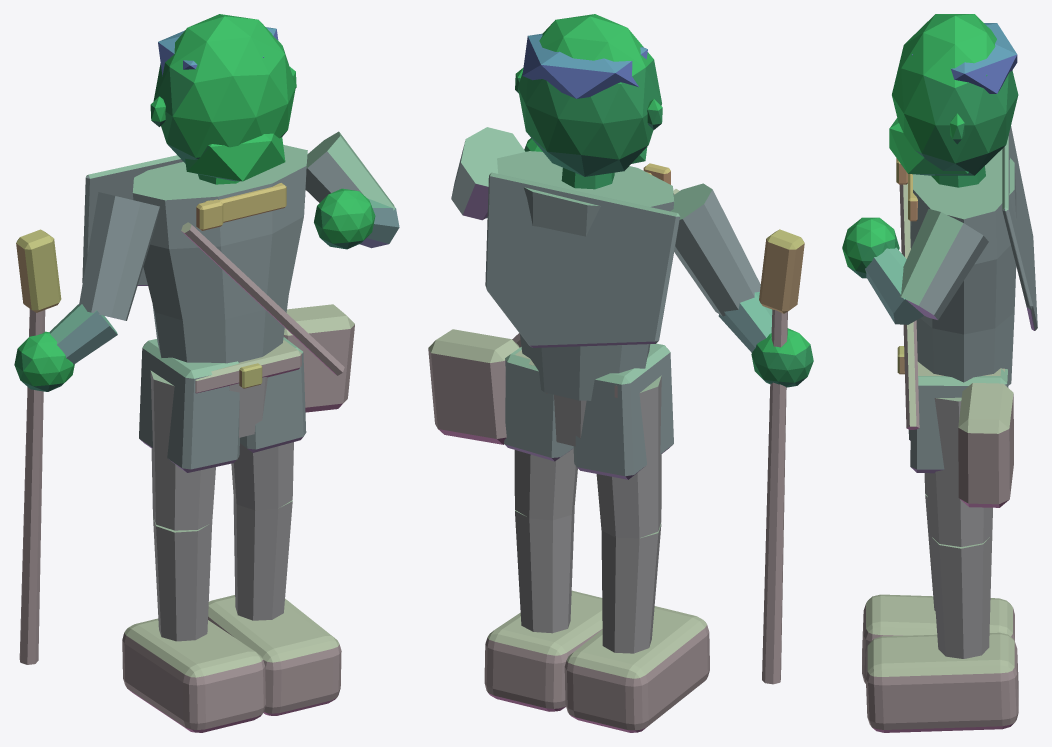
Rendered from npc_scout_react_v01.glb.
3 renders of one model, left to right at view 1: azimuth 30°, elevation 25°; view 2: azimuth 150°, elevation 25°; view 3: azimuth 270°, elevation 25°, orthographic.
Parts seen in each view (by area): view 1: GEO_npc_scout_react_v01; view 2: GEO_npc_scout_react_v01; view 3: GEO_npc_scout_react_v01.
Part boxes in pixels (box(x1,y1,x2,y2)): GEO_npc_scout_react_v01: box(14, 14, 399, 732); GEO_npc_scout_react_v01: box(428, 14, 813, 732); GEO_npc_scout_react_v01: box(842, 14, 1037, 732).
Size of the model in its own units: 1.16 by 2.06 by 0.5348.
